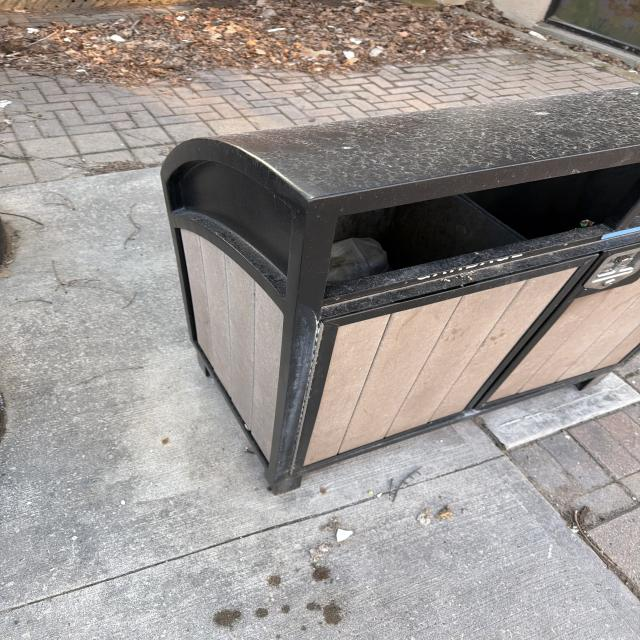Dustbin: (158, 84, 640, 493)
